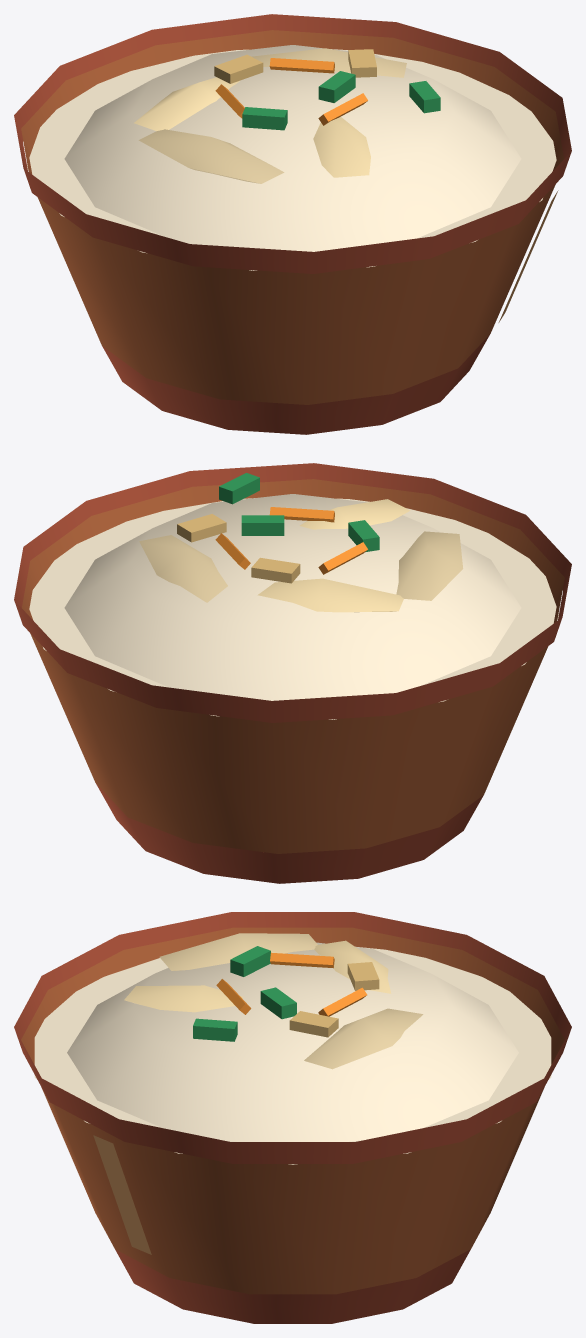
Rendered from pass_rabri.glb.
3 renders of one model, top to bottom at view 1: azimuth 30°, elevation 25°; view 2: azimuth 150°, elevation 25°; view 3: azimuth 270°, elevation 25°, orthographic.
Visible parts, largest first — view 1: pass_rabri; view 2: pass_rabri; view 3: pass_rabri.
Boxes of the visible parts, x1=… form: pass_rabri: x1=14, y1=14, x2=571, y2=434; pass_rabri: x1=14, y1=463, x2=571, y2=883; pass_rabri: x1=14, y1=912, x2=571, y2=1323.
Bounding box in the file's own units: 0.154 × 0.085 × 0.158.
1 material, 1 textured.
